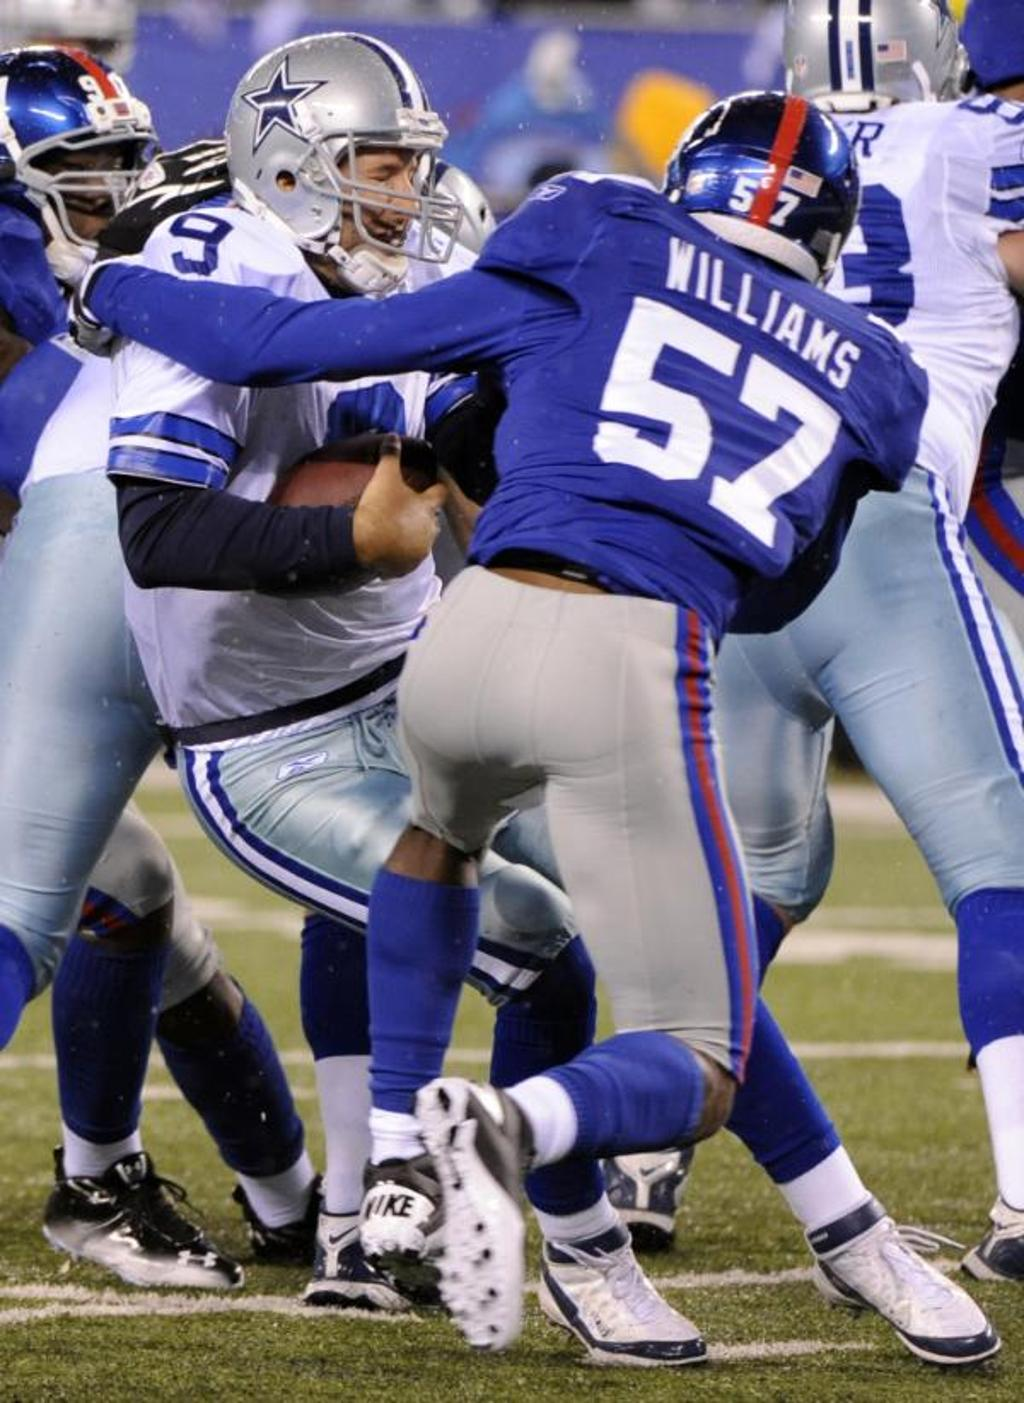face: (47, 153, 148, 282), (334, 123, 419, 276)
